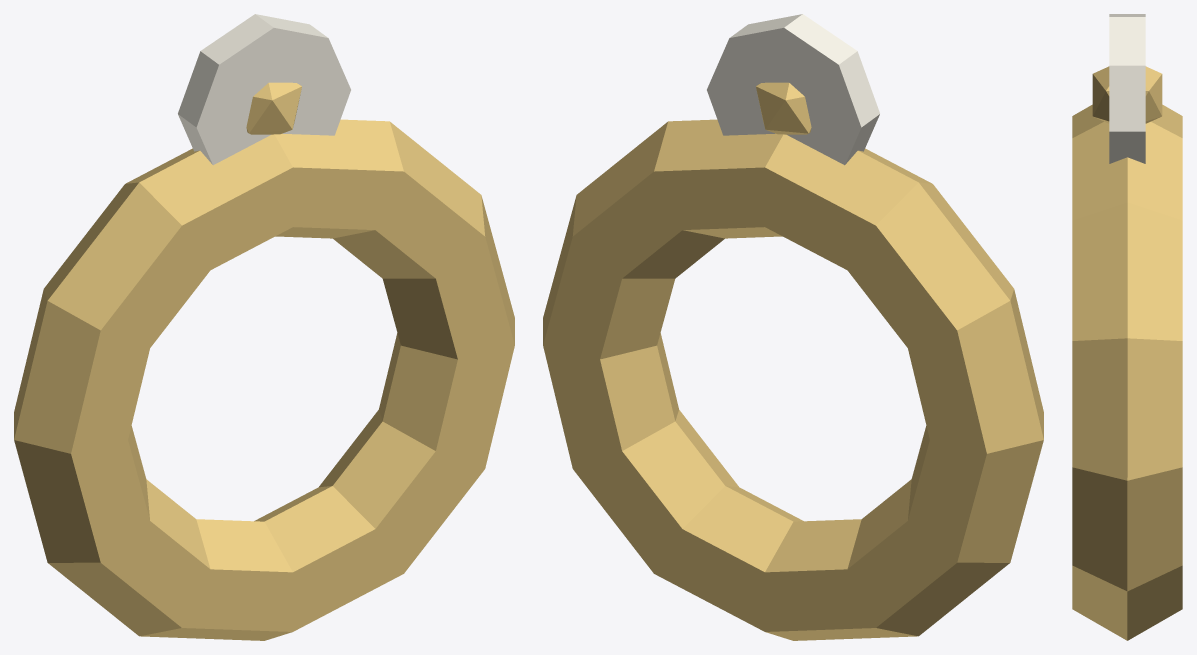
Rendered from EmblemLightPriest.fbx.
3 renders of one model, left to right at view 1: azimuth 30°, elevation 25°; view 2: azimuth 150°, elevation 25°; view 3: azimuth 270°, elevation 25°, orthographic. The views are drawn at different scales.
Parts seen in each view (by area): view 1: fam_gold, fam_ivory_emit; view 2: fam_gold, fam_ivory_emit; view 3: fam_gold, fam_ivory_emit.
Boxes of the visible parts, x1,y1,x2,y2 form: fam_gold: (14,82,514,640); fam_ivory_emit: (178,14,350,165); fam_gold: (543,82,1043,640); fam_ivory_emit: (707,14,879,165); fam_gold: (1072,66,1182,640); fam_ivory_emit: (1109,14,1145,163).
Size of the model in its own units: 0.861 by 1.02 by 0.1697.
